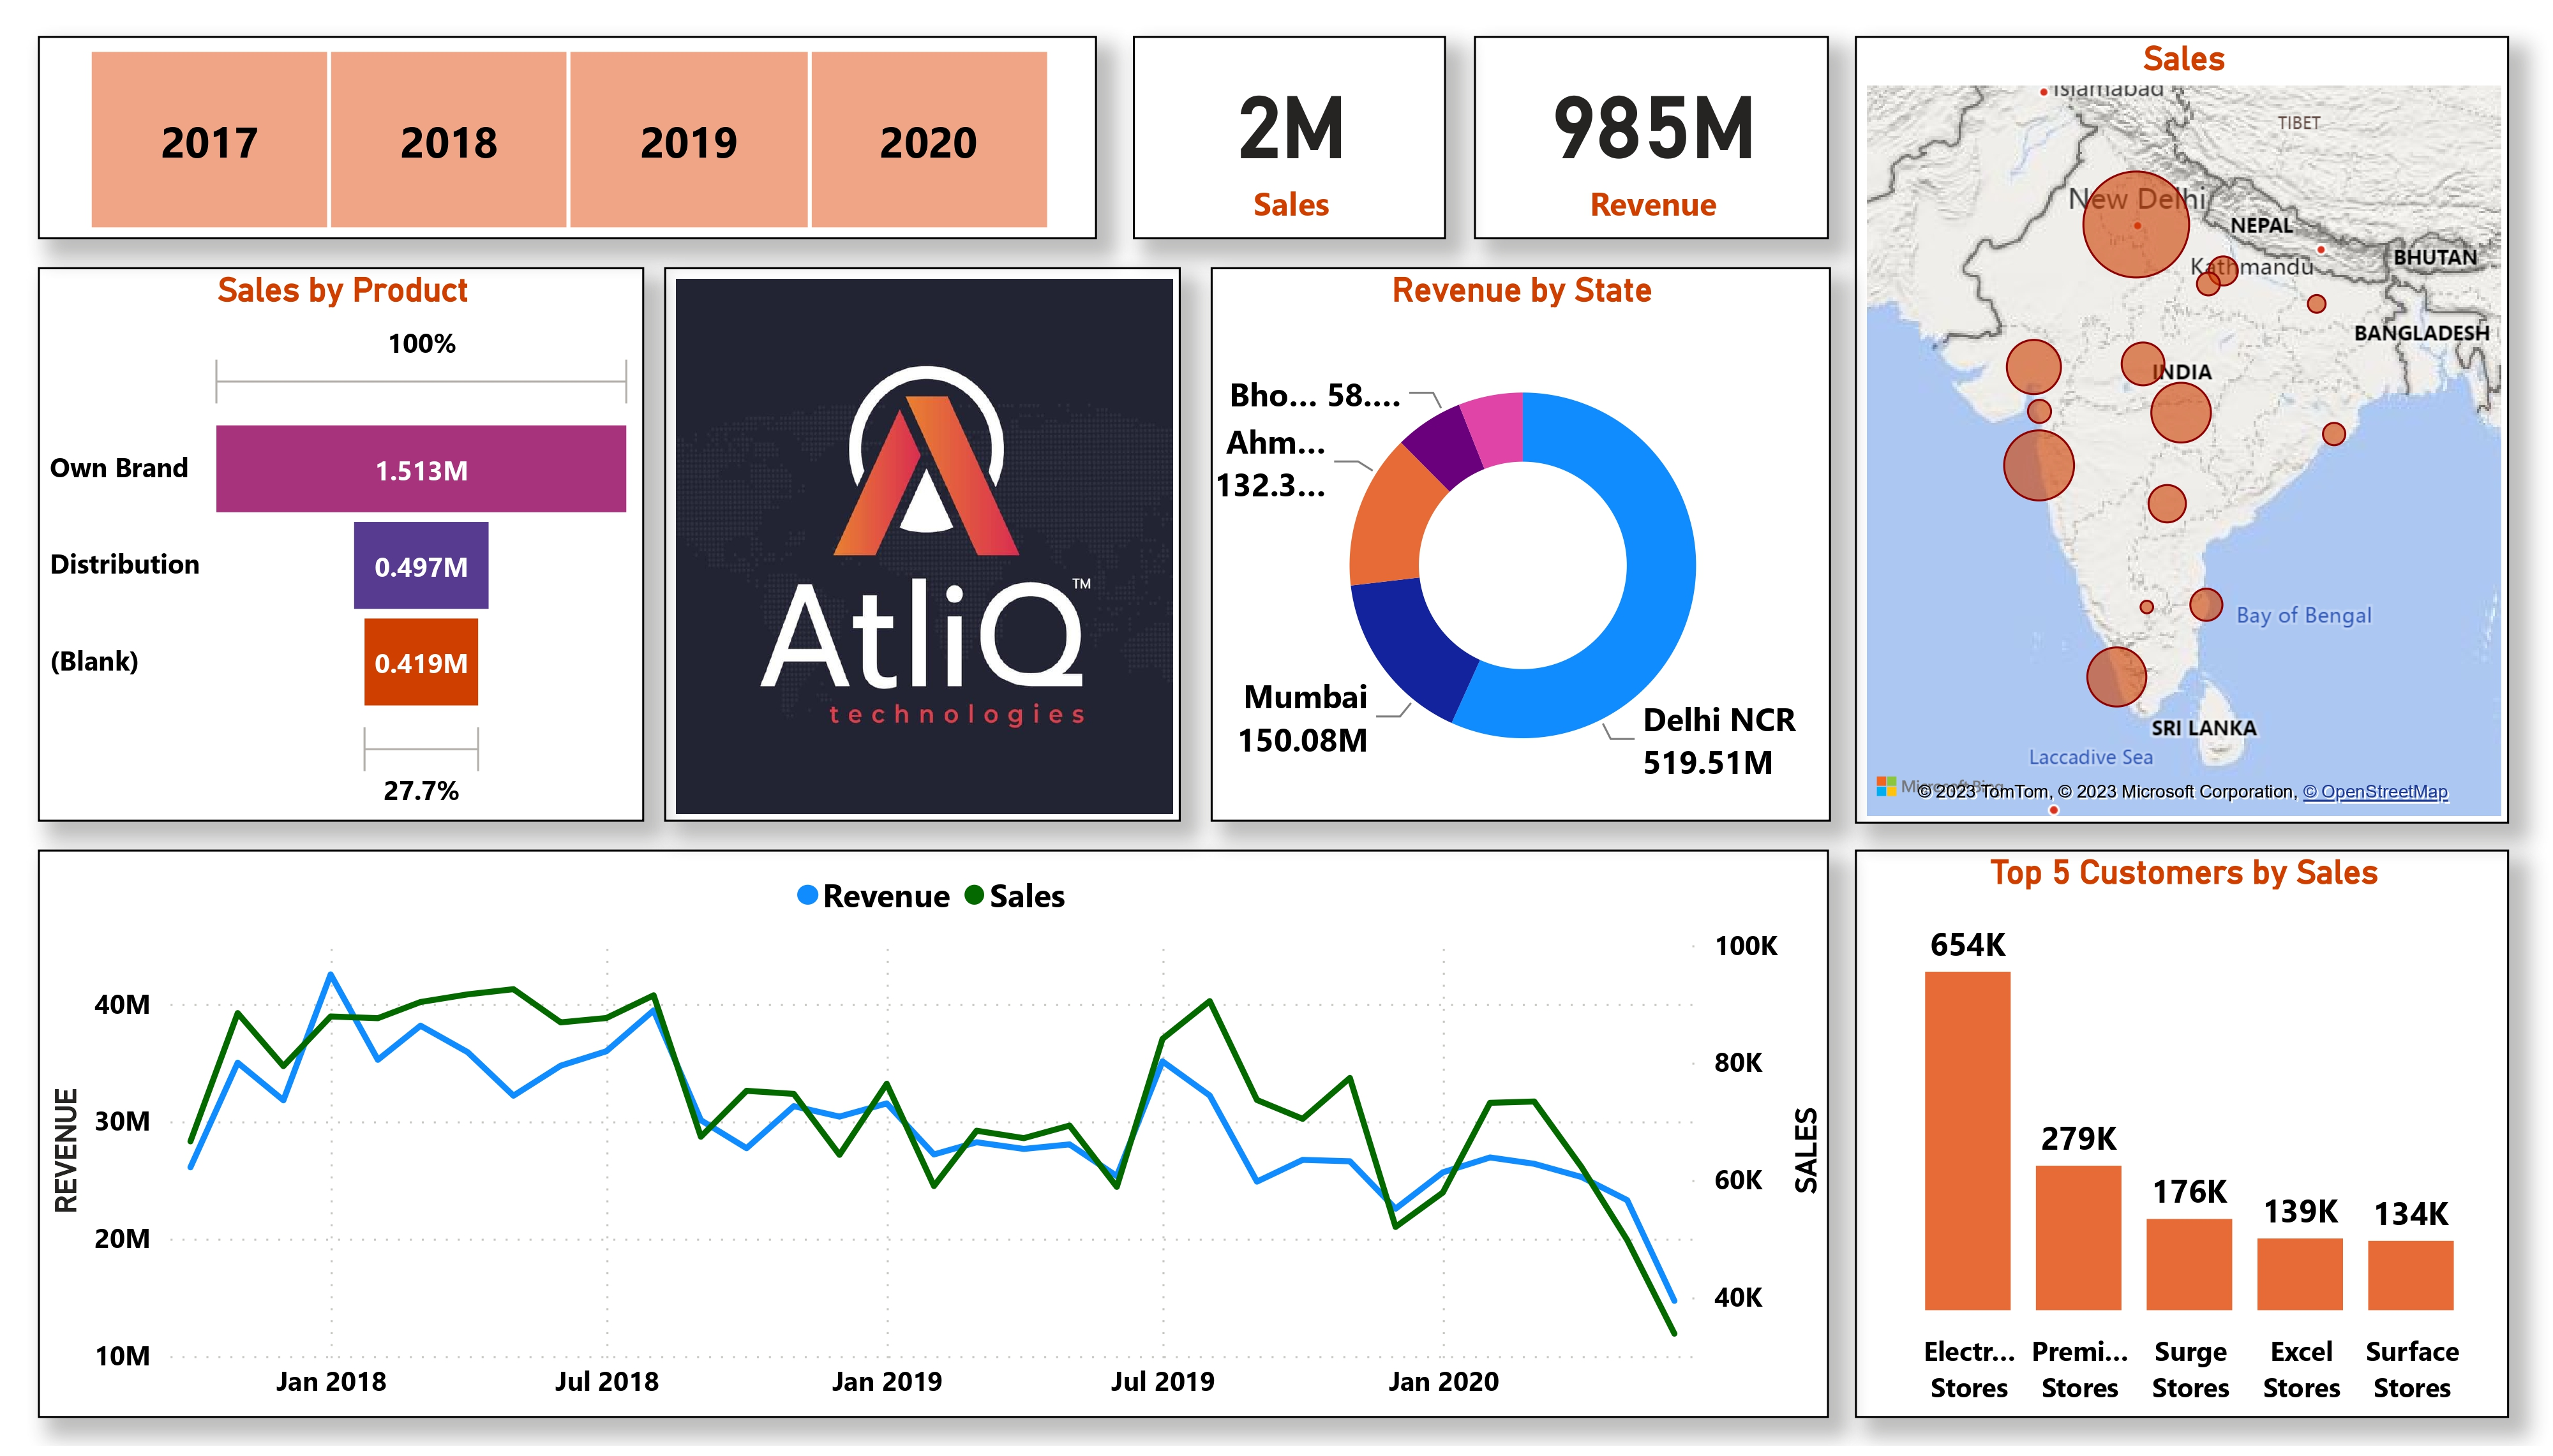

The dashboard page shown, as its layout file describes it:
{"tool":"powerbi","page":{"name":"Page 1","canvas":[1280,720],"ordinal":0},"visuals":[{"type":"card","fields":{"Values":["BaseMeasures.Revenue"]},"box":[739.4,12.9,178,101.9],"z":0},{"type":"card","fields":{"Values":["BaseMeasures.Sales_Qty"]},"box":[567.9,12.9,156.9,101.9],"z":1000},{"type":"funnel","fields":{"Category":["sales products.product_type"],"Y":["BaseMeasures.Sales_Qty"]},"box":[19.4,129.4,304.2,278.3],"z":2000},{"type":"clusteredColumnChart","title":"Top 5 Customers by Sales","fields":{"Category":["sales customers.custmer_name"],"Y":["BaseMeasures.Sales_Qty"]},"box":[930.3,420.7,328.4,284.8],"z":3000},{"type":"map","title":"Sales","fields":{"Size":["BaseMeasures.Sales_Qty"],"Category":["sales markets.markets_name"]},"box":[930.3,12.9,328.4,394.8],"z":4000},{"type":"lineChart","title":"Sales Quantity","fields":{"Category":["sales date.cy_date.Variation.Date Hierarchy.Year","sales date.cy_date.Variation.Date Hierarchy.Quarter","sales date.cy_date.Variation.Date Hierarchy.Month","sales date.cy_date.Variation.Date Hierarchy.Day"],"Y":["BaseMeasures.Revenue"],"Y2":["BaseMeasures.Sales_Qty"]},"box":[19.4,420.7,898,284.8],"z":5000},{"type":"slicer","fields":{"Values":["sales date.year"]},"box":[19.4,12.9,530.7,101.9],"z":7001},{"type":"donutChart","fields":{"Category":["sales markets.markets_name"],"Y":["BaseMeasures.Revenue"]},"box":[606.7,129.4,310.7,278.3],"z":7002},{"type":"image","box":[333.3,129.4,258.9,278.3],"z":7003}]}

Visuals, with their boxes in screenshot pixels (x1, y1, x2, y2), scaled from the page's 1280x720 canvas onto the 2553x1456 screenshot:
card - BaseMeasures.Revenue: box(1475, 26, 1830, 232)
card - BaseMeasures.Sales_Qty: box(1133, 26, 1446, 232)
funnel - sales products.product_type x BaseMeasures.Sales_Qty: box(39, 262, 645, 824)
"Top 5 Customers by Sales" clusteredColumnChart: box(1855, 851, 2510, 1427)
"Sales" map: box(1855, 26, 2510, 824)
"Sales Quantity" lineChart: box(39, 851, 1830, 1427)
slicer - sales date.year: box(39, 26, 1097, 232)
donutChart - sales markets.markets_name x BaseMeasures.Revenue: box(1210, 262, 1830, 824)
image: box(665, 262, 1181, 824)
